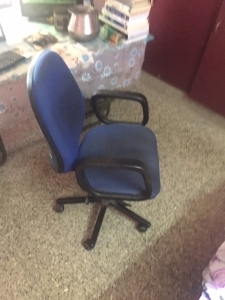chair: (27, 50, 161, 252)
